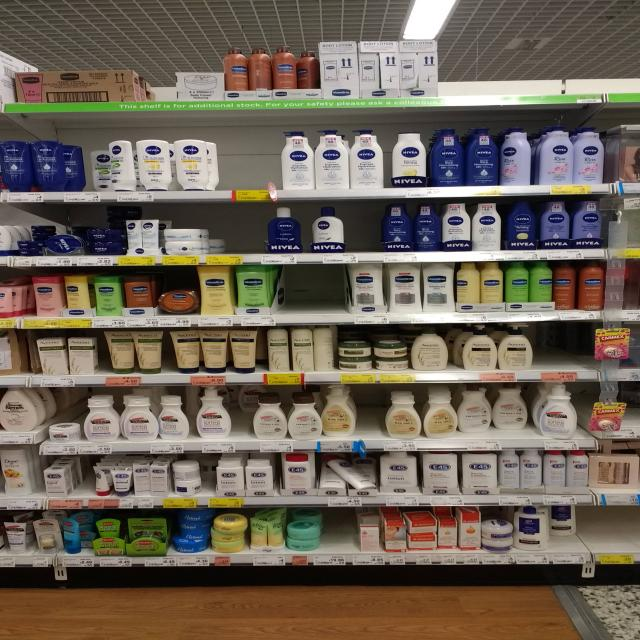100- O.O.S: (222, 136, 282, 199), (580, 508, 638, 561), (287, 268, 342, 323), (536, 322, 580, 380), (348, 206, 381, 262), (227, 209, 261, 263), (356, 387, 384, 447), (323, 509, 353, 565), (75, 465, 94, 507), (626, 406, 640, 438)
